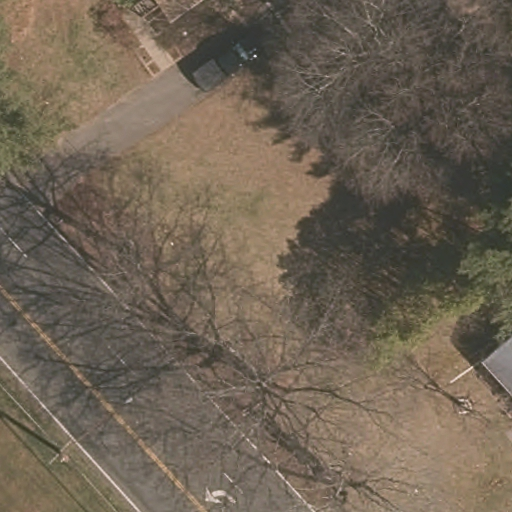DT: (35, 422, 90, 473)
